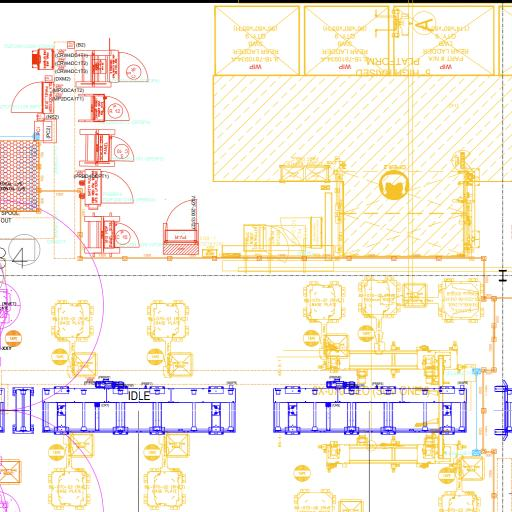robot: (38, 430, 98, 510), (302, 280, 348, 377), (356, 273, 406, 358), (48, 296, 96, 384), (142, 427, 189, 509), (146, 297, 190, 383)
